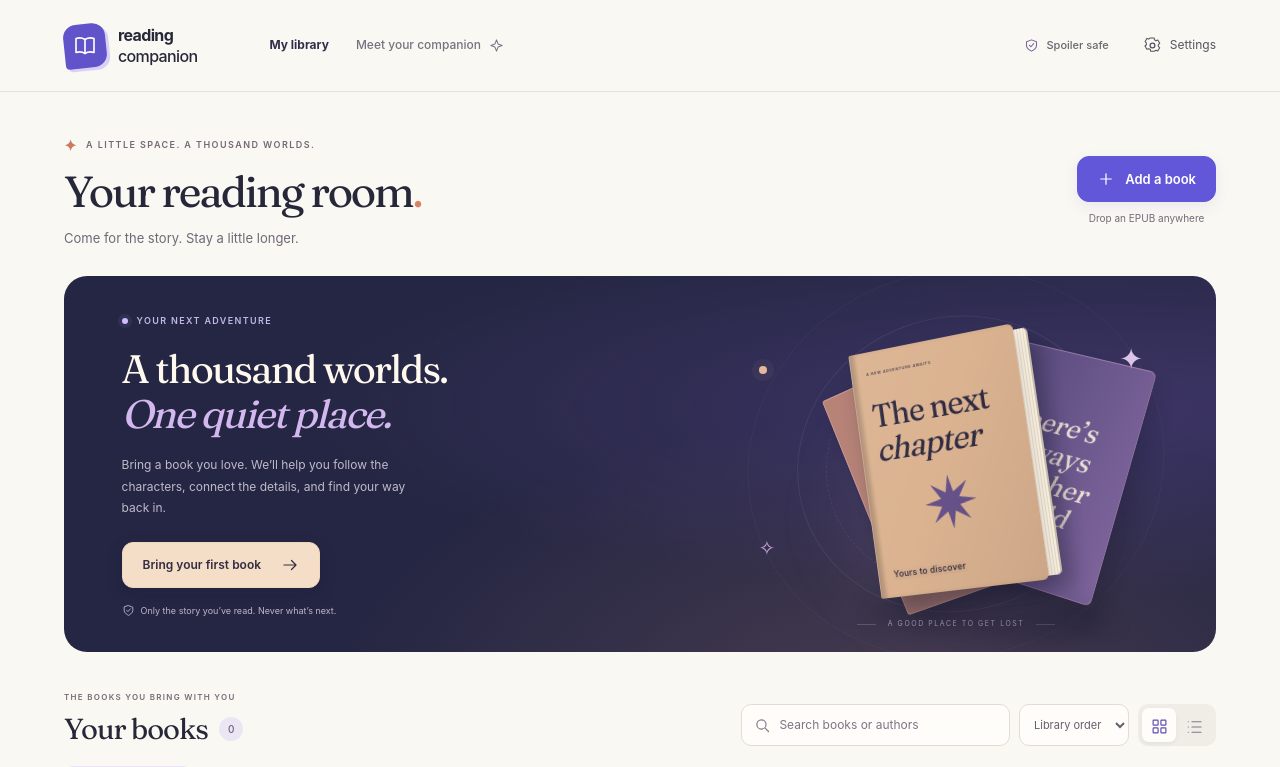
Test: Library interactions › keeps utilities in a keyboard-dismissible disclosure and restores focus
The width and height of the screenshot is (1280, 767).
expect the button "AI provider settings" is not shown: met
Click the button with aria-label "Library settings and account" at (1174, 46), box top-left (1133, 24), bottom-right (1216, 68)
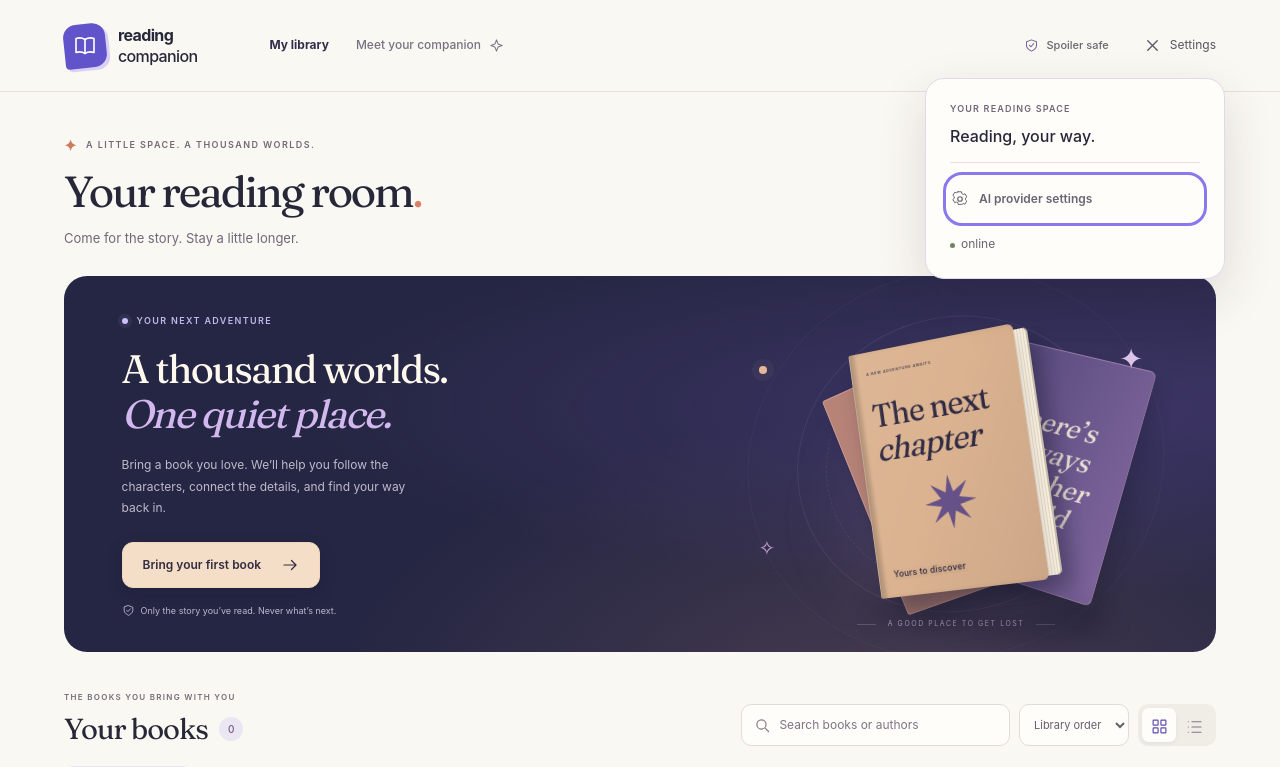
Press Escape
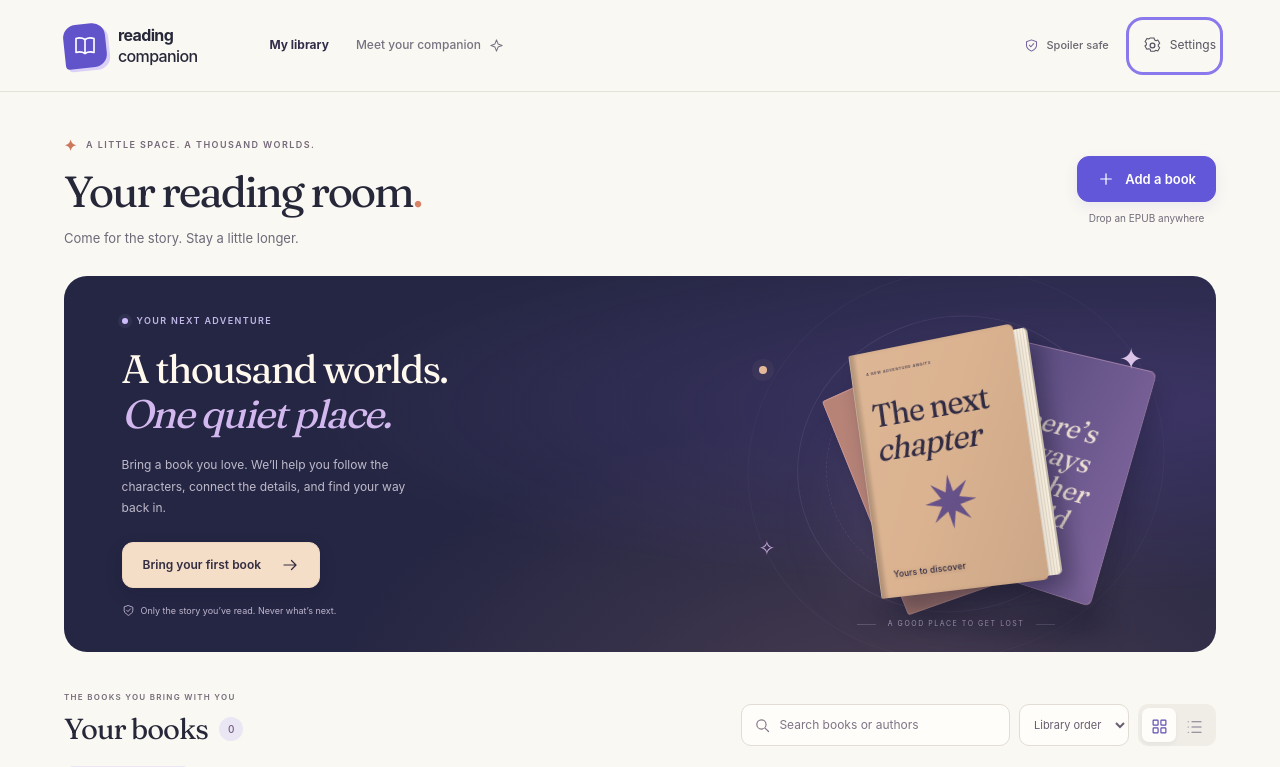
expect the button with aria-label "Library settings and account" is collapsed: met, box top-left (1133, 24), bottom-right (1216, 68)
expect the button "AI provider settings" is gone: met
